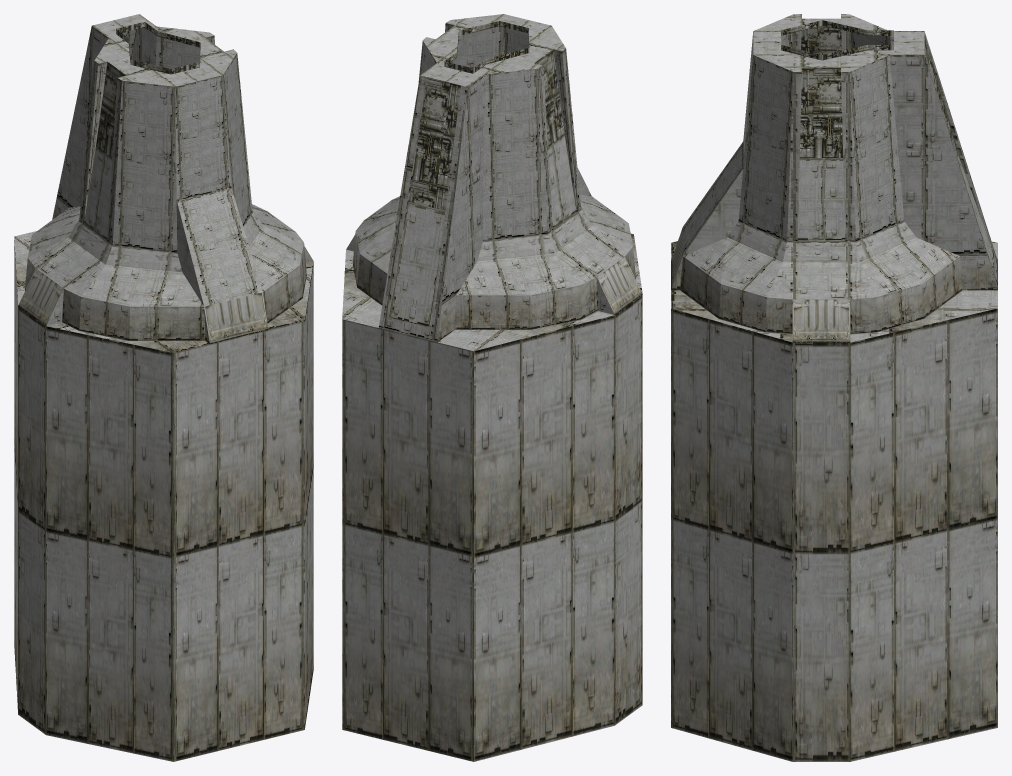
The model's file is ins_all_def_turret_m_s02_l1.fbx.
3 views of the same model, side by side, from view 1: azimuth 30°, elevation 25°; view 2: azimuth 150°, elevation 25°; view 3: azimuth 270°, elevation 25° (orthographic). The views are drawn at different scales.
Visible parts, largest first — view 1: mesh_node; view 2: mesh_node; view 3: mesh_node.
Boxes of the visible parts, left/top/right/bottom form: mesh_node: left=14, top=14, right=313, bottom=761; mesh_node: left=342, top=14, right=642, bottom=761; mesh_node: left=671, top=14, right=997, bottom=761.
Size of the model in its own units: 4.21 by 9.64 by 4.34.
